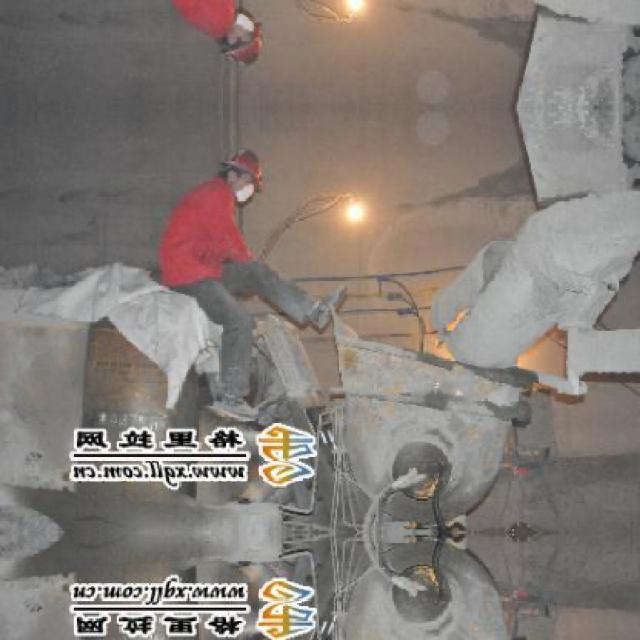helmet: (218, 144, 268, 204), (218, 9, 268, 69)
